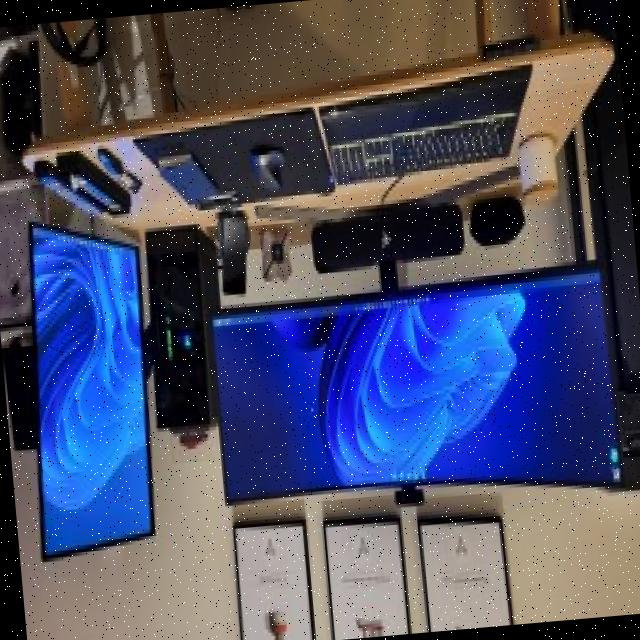Computer: (139, 218, 232, 442)
Monitor: (208, 277, 627, 530), (6, 212, 162, 567)
